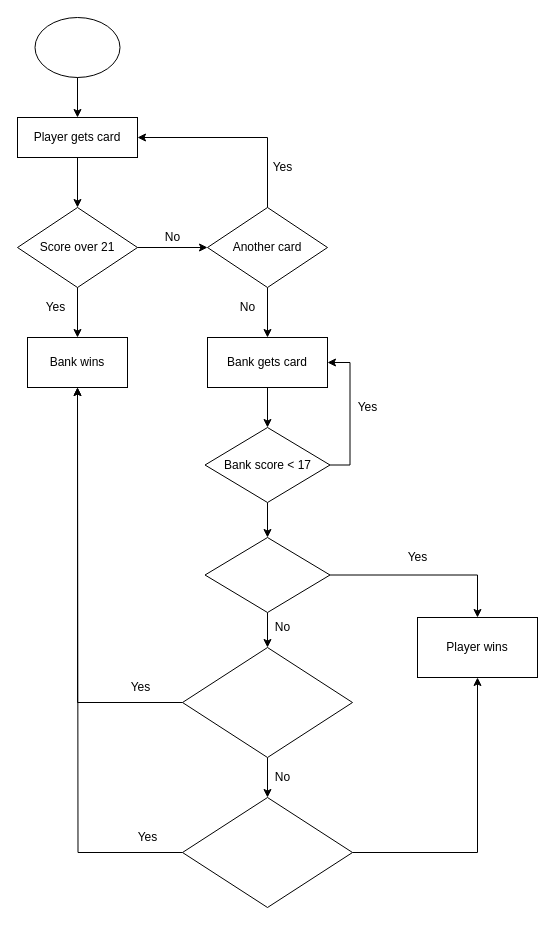
Image size: 555x925. Some labels were removed from this diagram. Here are the shapes that lost their labels. From the top down, the centre of each, then its label:
At [77,47]: "Start".
At [267,574]: "Bank score > 21".
At [267,702]: "Bank score > Player score".
At [267,852]: "Bank score = Player score".
